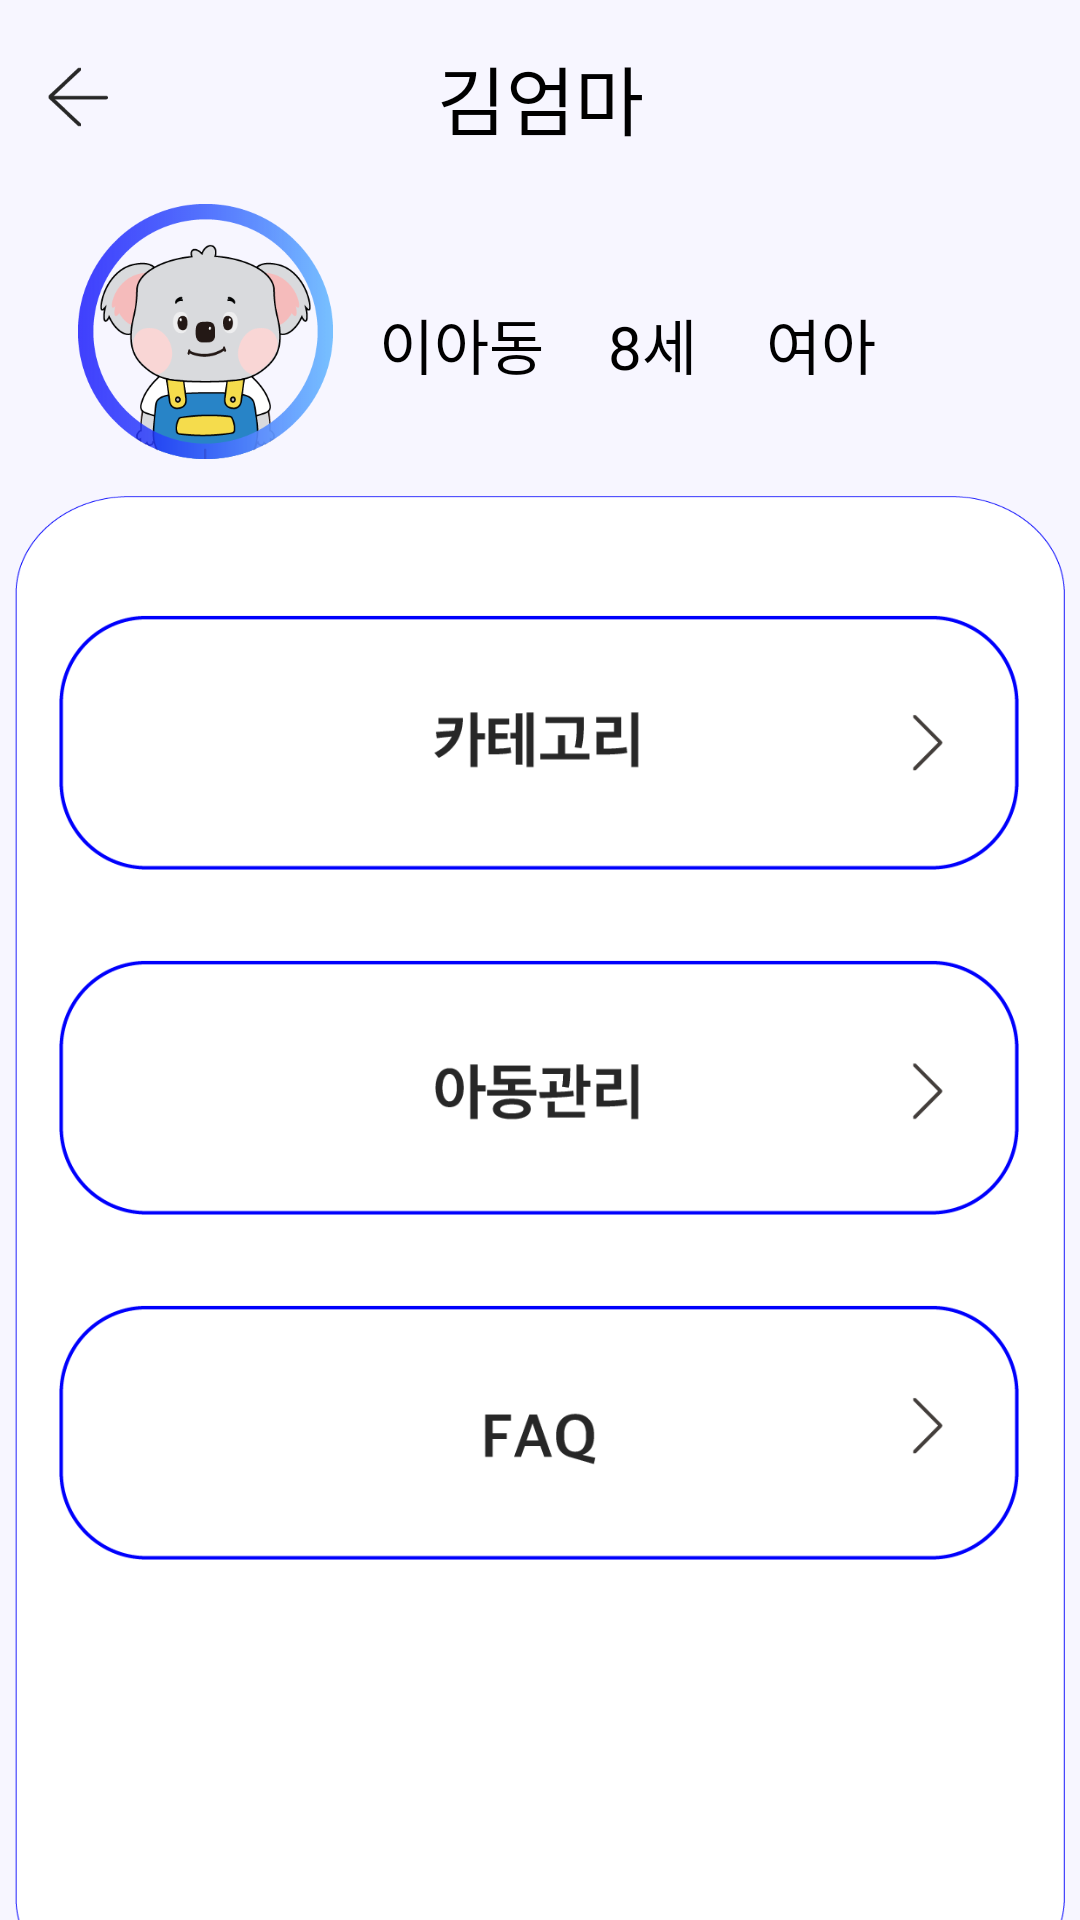

Point at icon controls on the screen. Image size 1080x1920, points as (x=x, y=y).
backbtn: (x=78, y=97)
